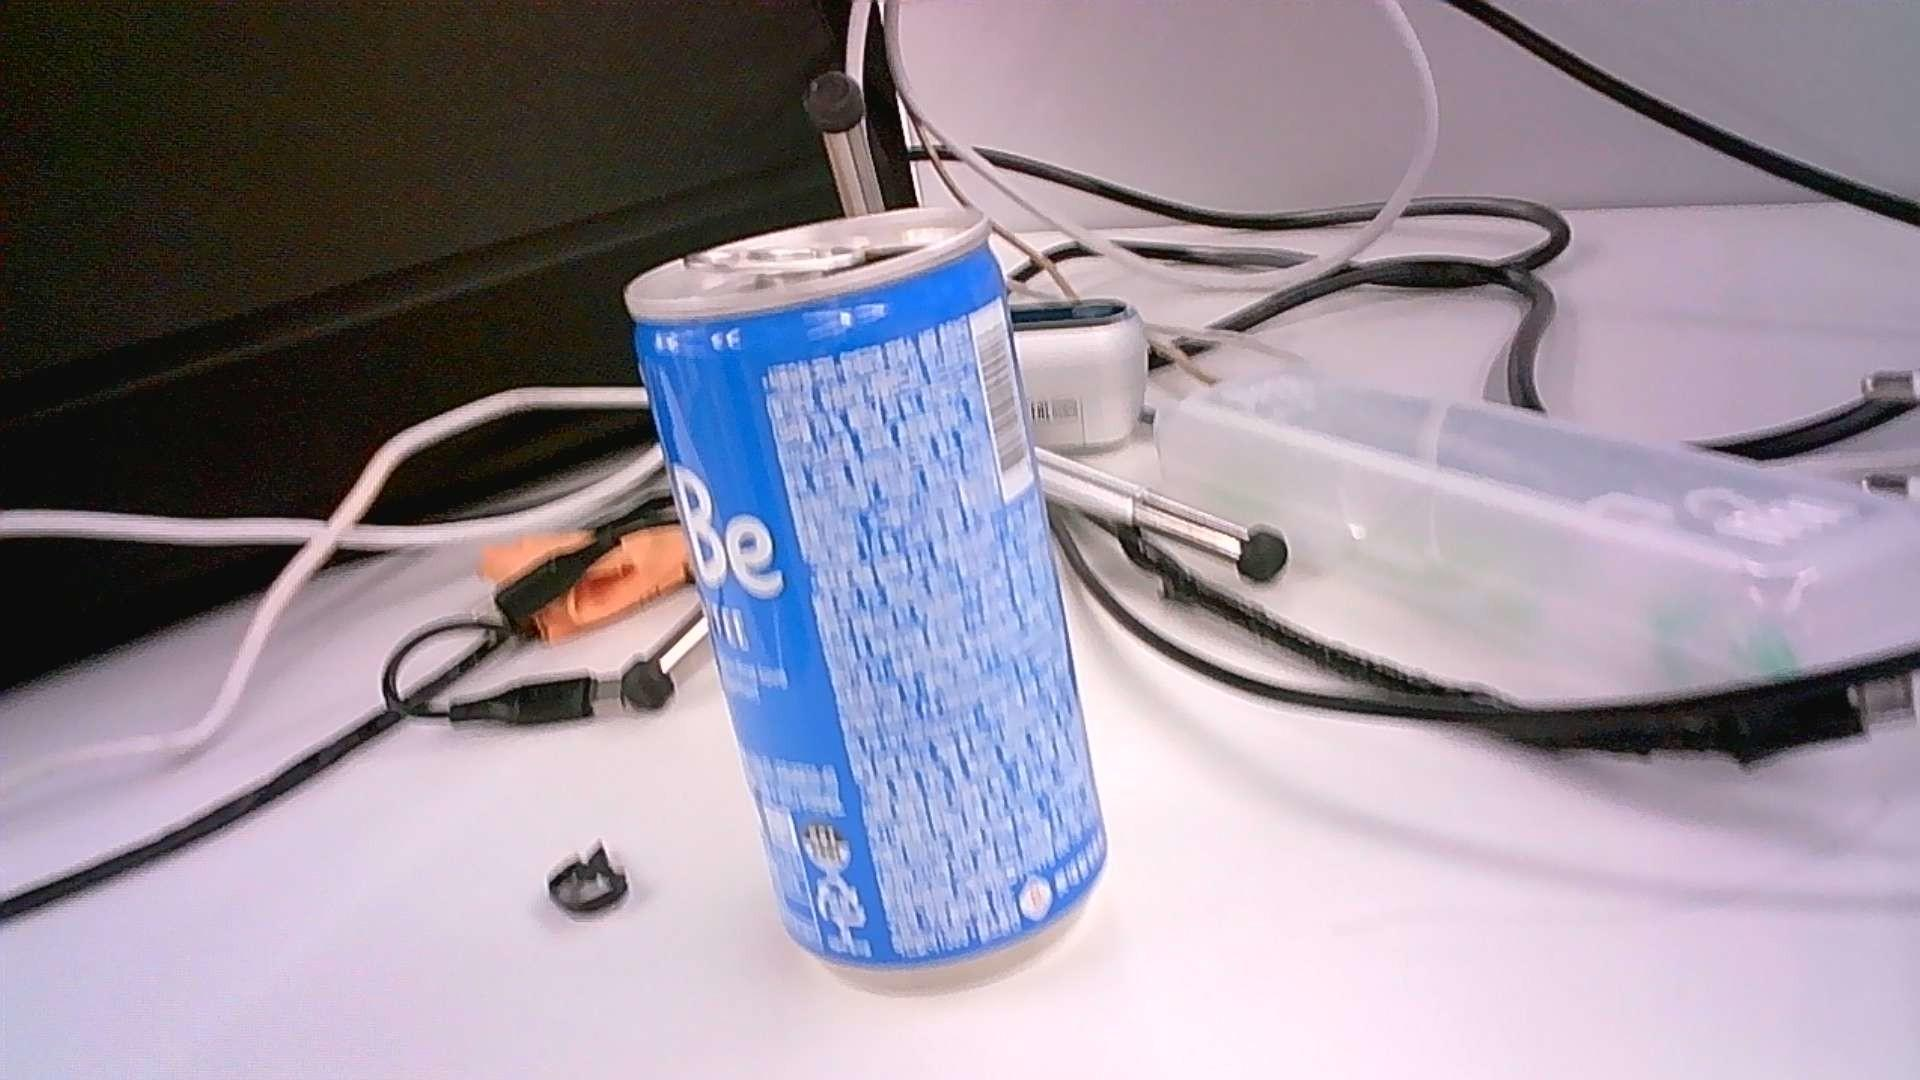letsbe: (628, 206, 1110, 972)
